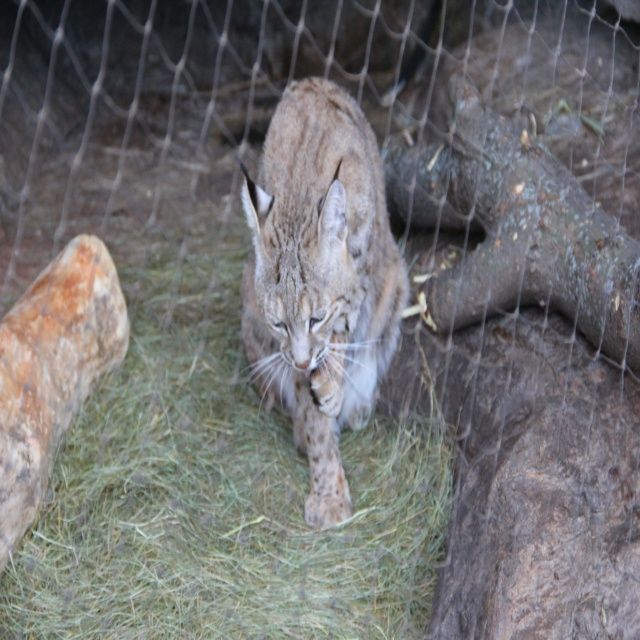Lynx: (236, 74, 409, 523)
